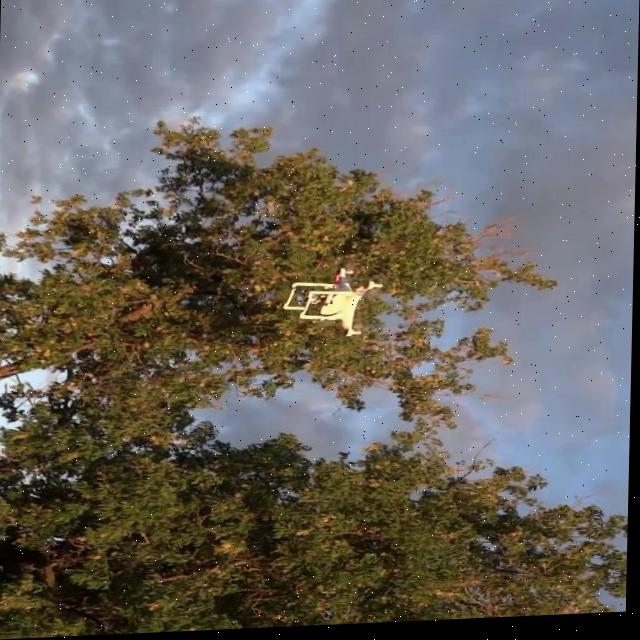drone: (280, 267, 389, 346)
